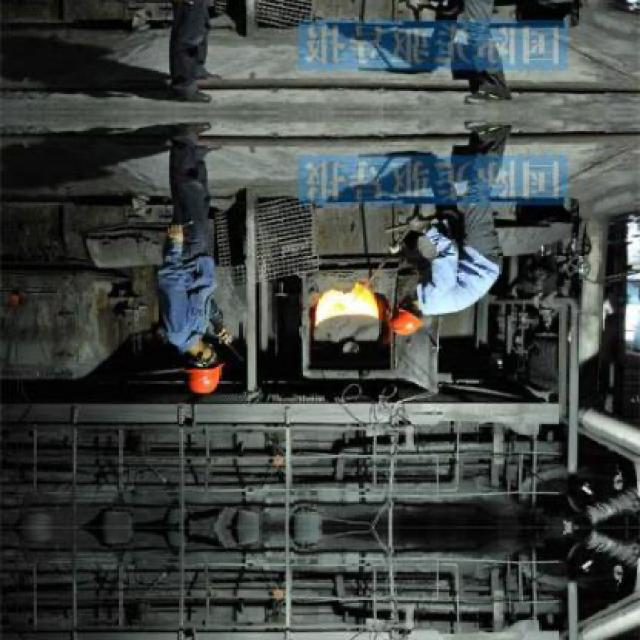con casco: (174, 335, 236, 418), (378, 291, 447, 354)
